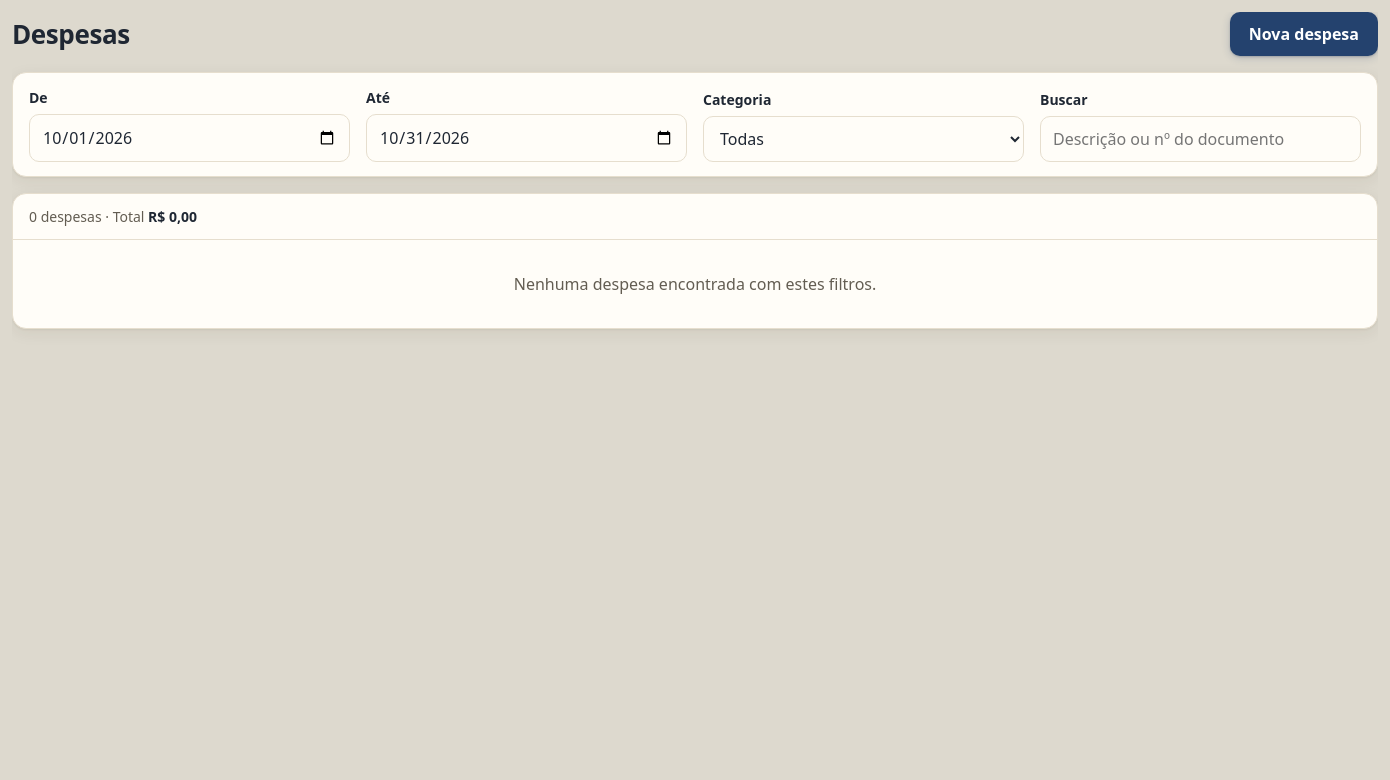
Despesas › não envia valor inválido
Click the button "Nova despesa": (1304, 34) 1230,12 -> 1378,56
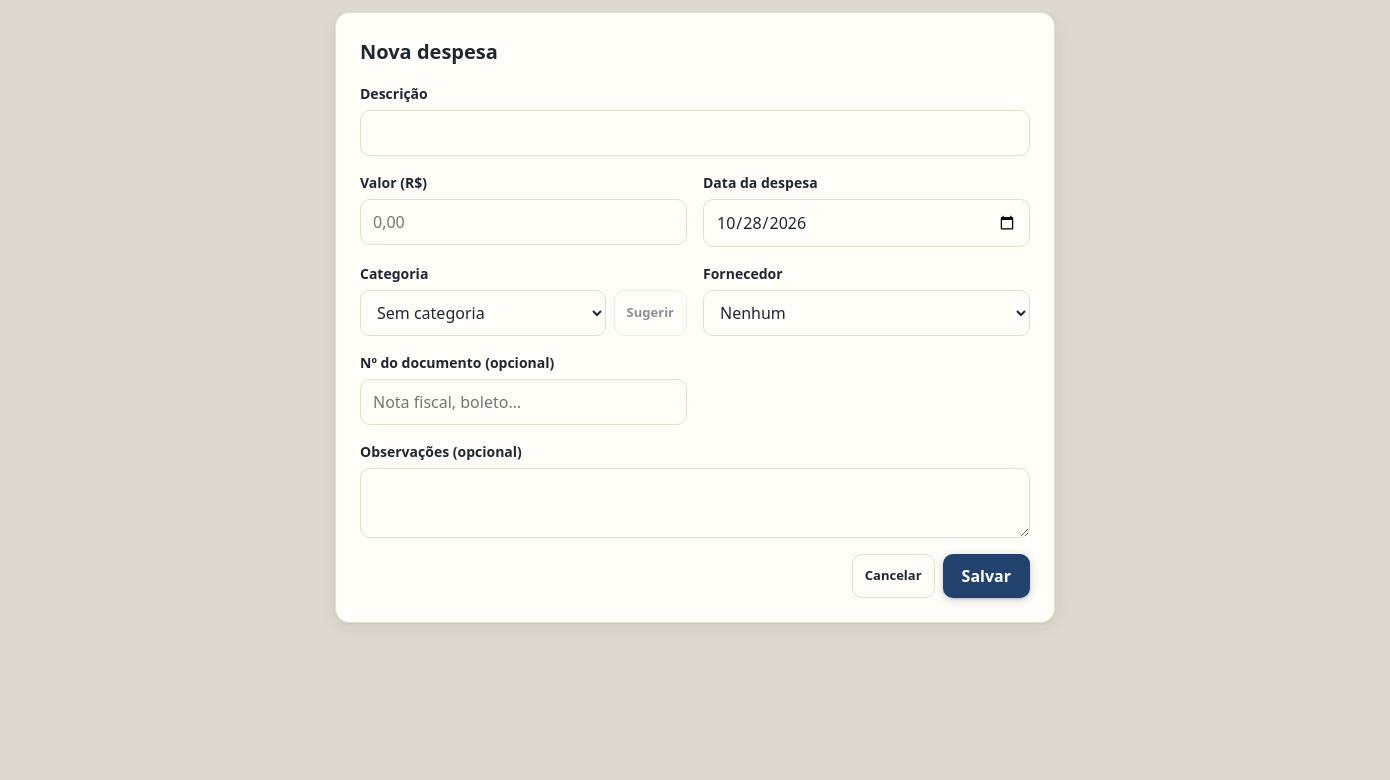
In the field labelled "Descrição": (695, 133) 360,110 -> 1030,156, type "Compra"
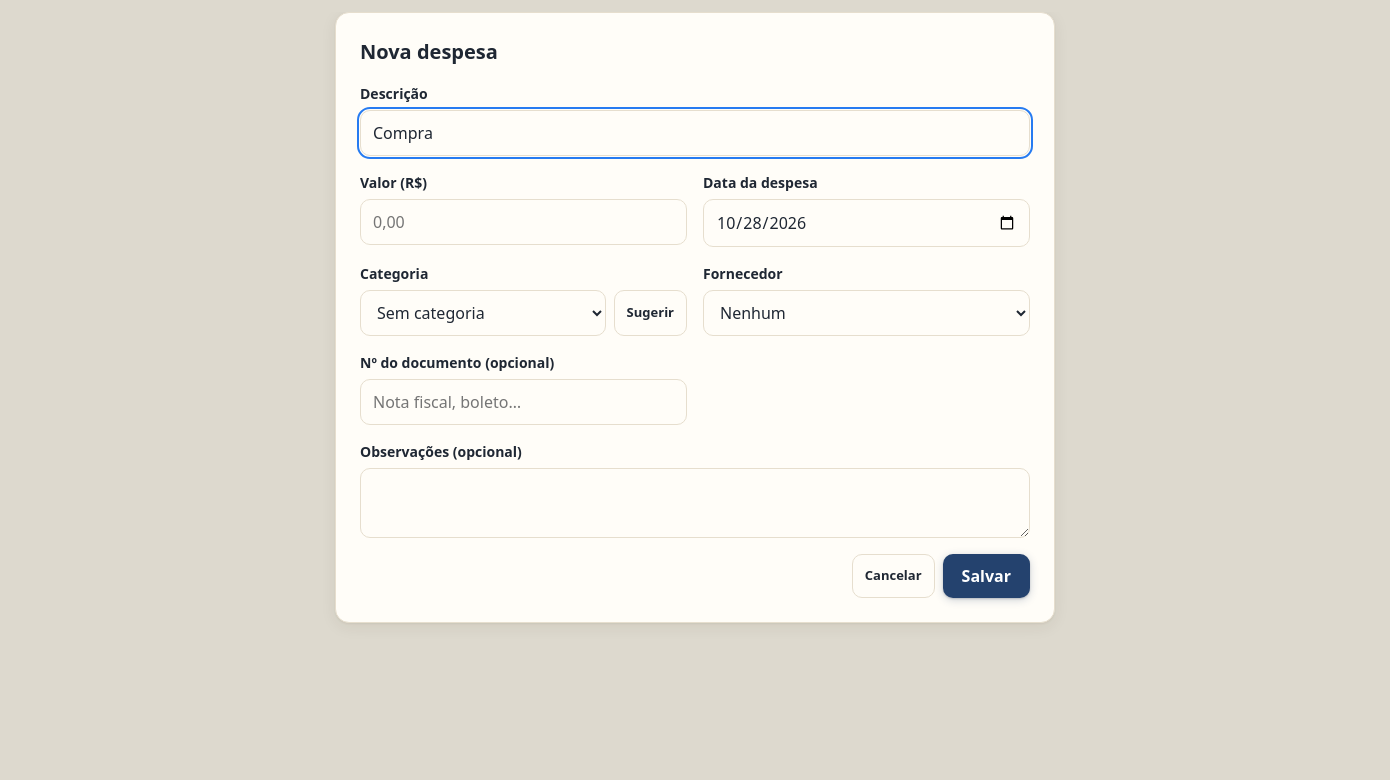
In the field labelled "Valor (R$)": (524, 222) 360,199 -> 687,245, type "12,345"
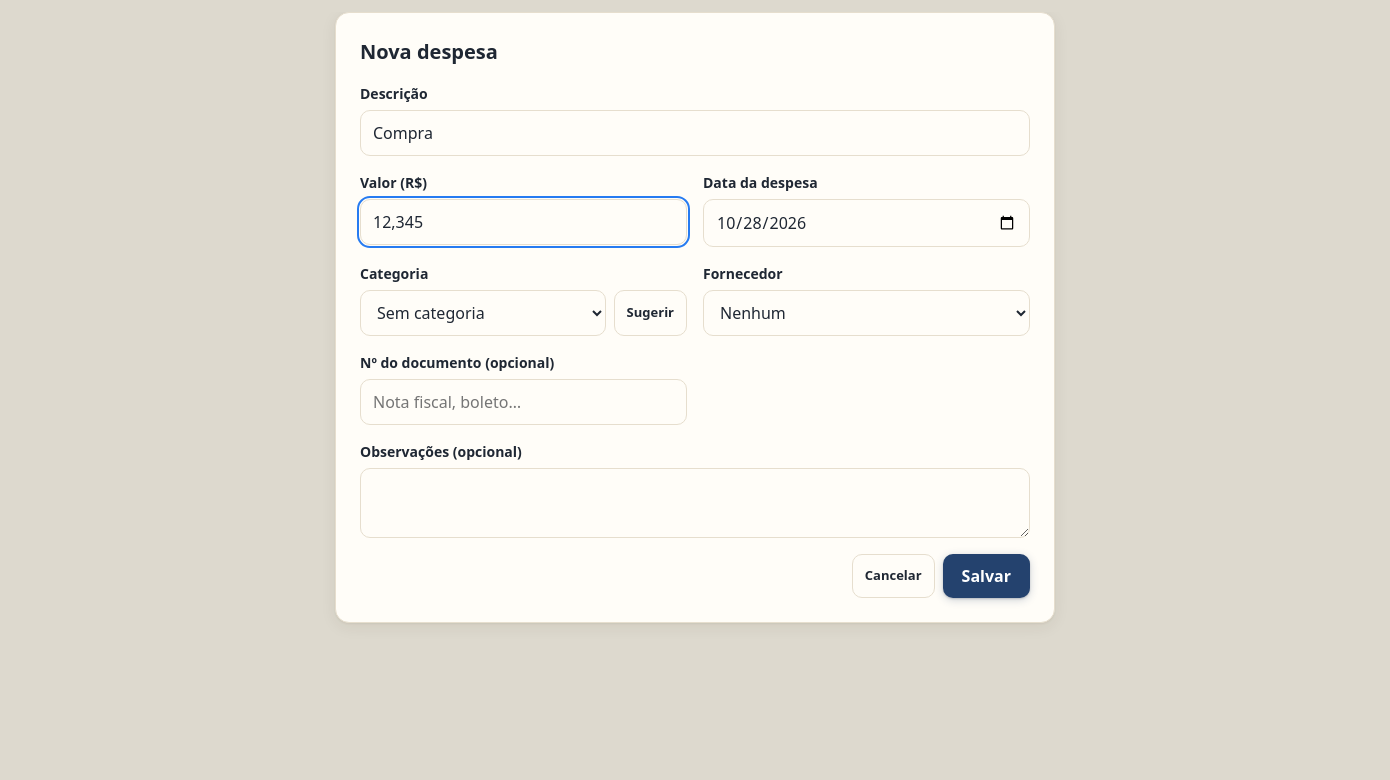
Click the button "Salvar": (986, 576) 943,554 -> 1030,598
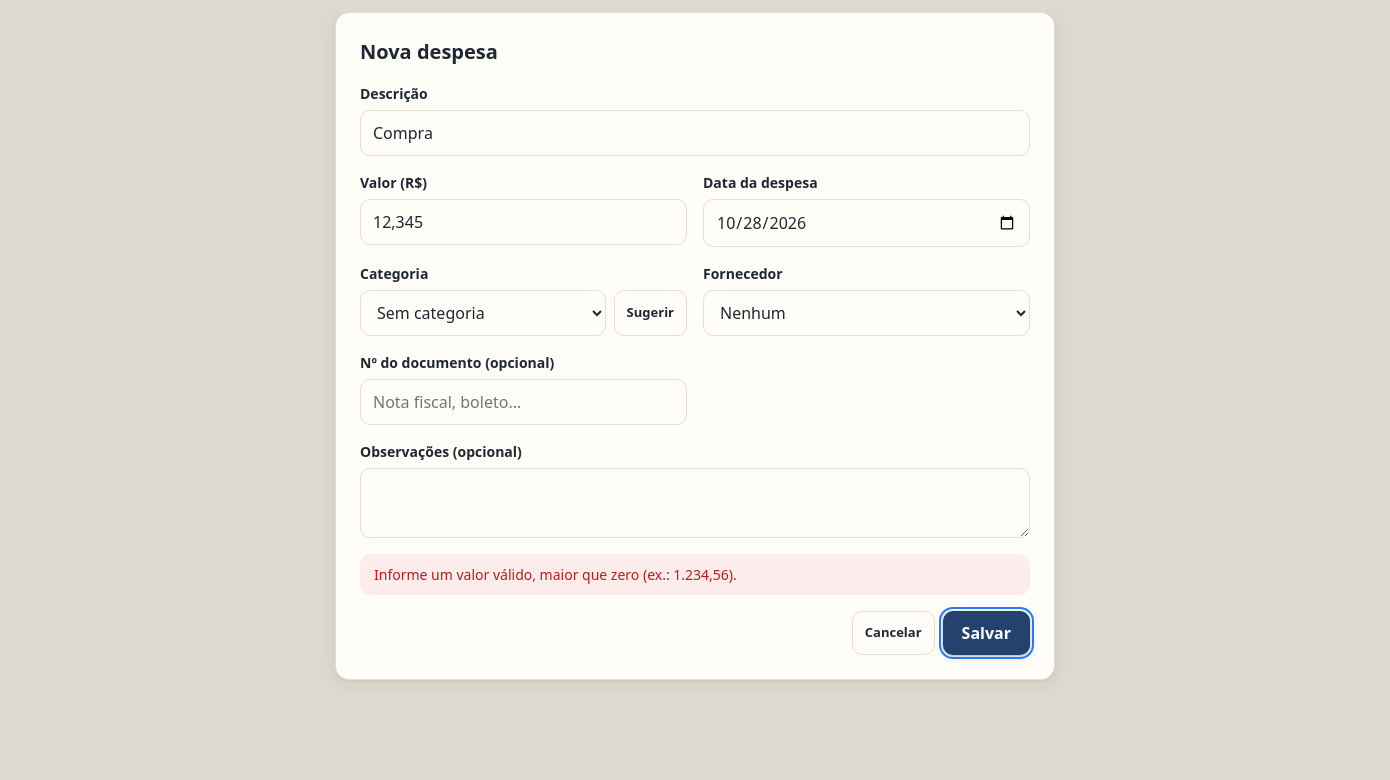
Now the message shows "Informe um valor válido", box 374,565 -> 737,584
